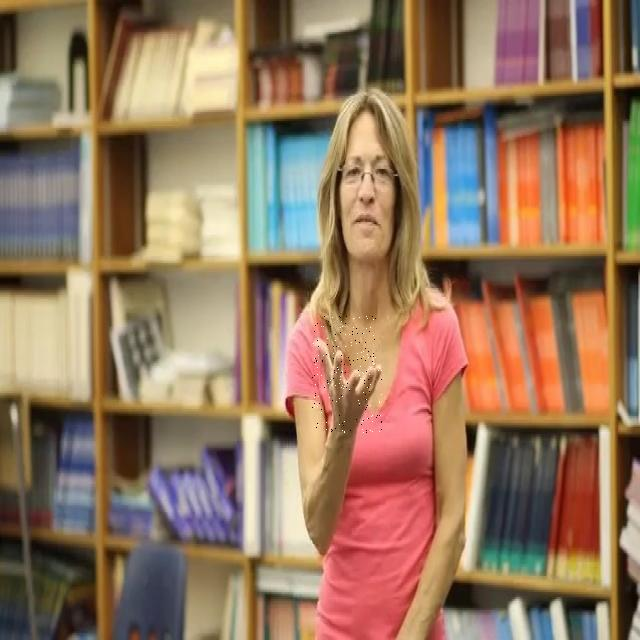warm: (312, 316, 382, 433)
